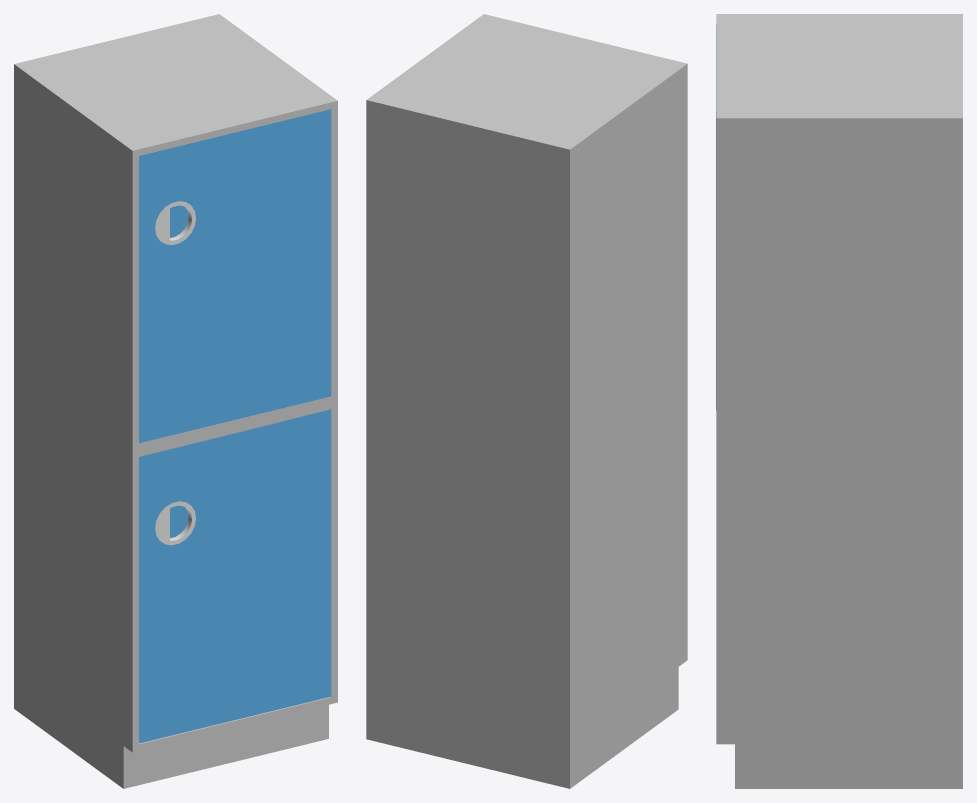
The model's file is locker.fbx.
The picture shows the model from 3 angles, left to right: view 1: azimuth 30°, elevation 25°; view 2: azimuth 150°, elevation 25°; view 3: azimuth 270°, elevation 25°; orthographic projection. The views are drawn at different scales.
Visible parts, largest first — view 1: Box004, Box008, Box009; view 2: Box004; view 3: Box004.
Part boxes in pixels (box(x1,y1,x2,y2)): Box004: box(14, 14, 337, 788); Box008: box(139, 109, 331, 443); Box009: box(139, 409, 331, 743); Box004: box(366, 14, 687, 788); Box004: box(716, 14, 962, 788).
Size of the model in its own units: 50 by 50.01 by 150.
Materials: 2 (1 with a texture image).
